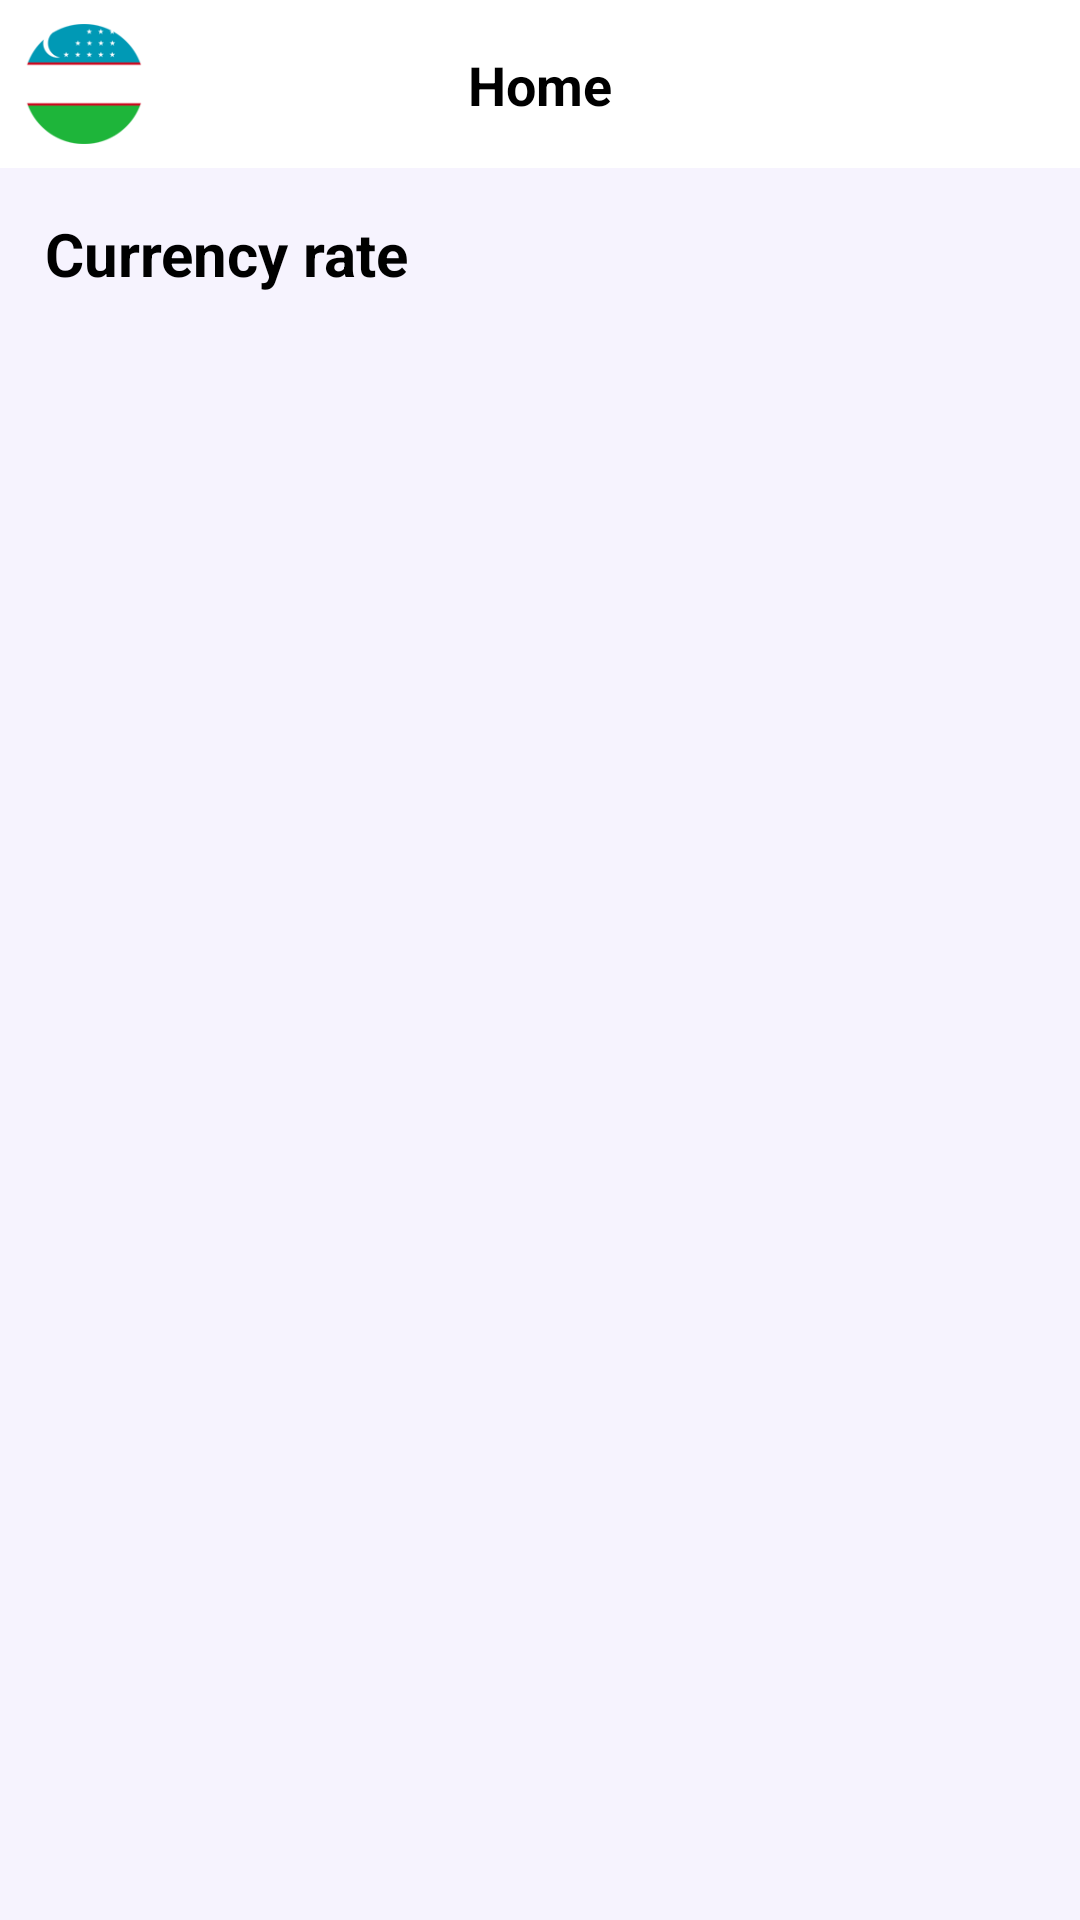

Icon click points for this 1080x1920 phone screenshot, format (x=x, y=y):
uz flag: (x=84, y=84)
